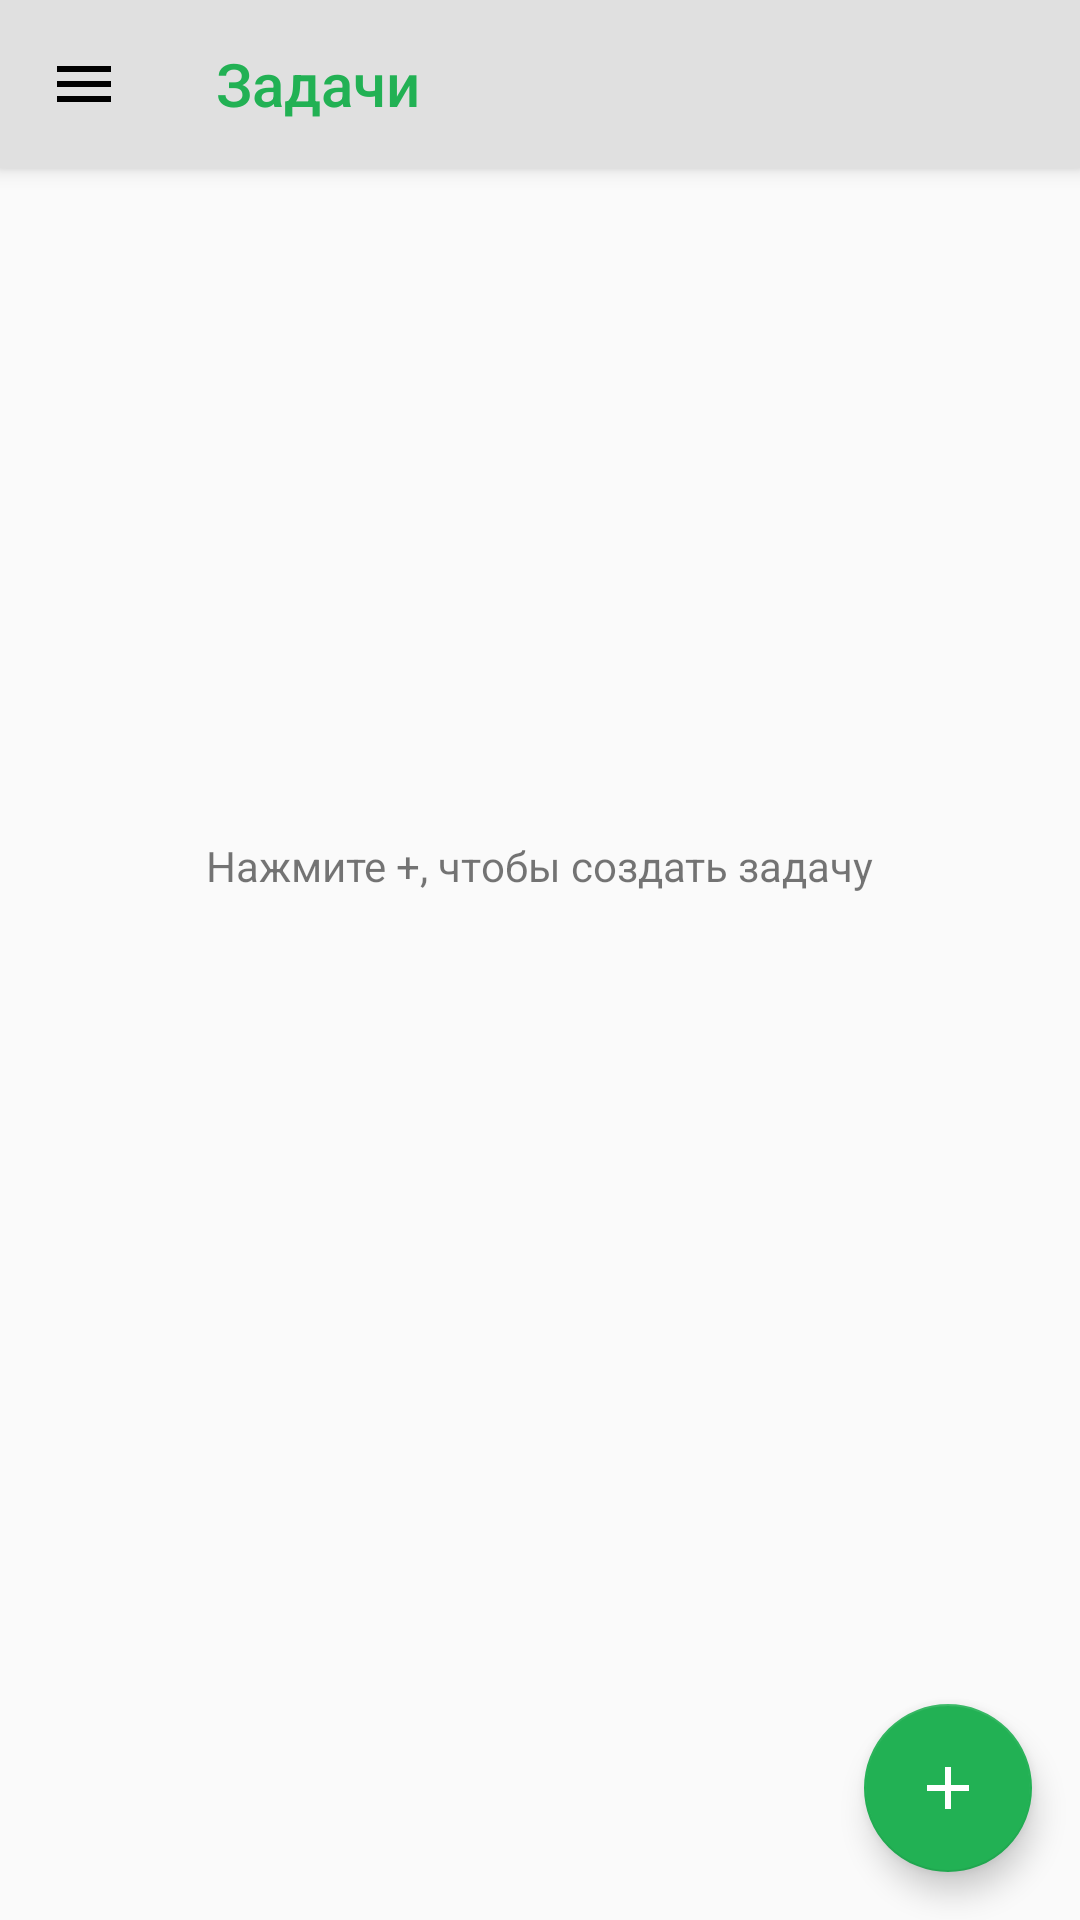

Named icons in this screenshot (1080px×1920px) and their bounding boxes, region(x1, y1, x2, y2):
fab: region(864, 1704, 1032, 1872)
